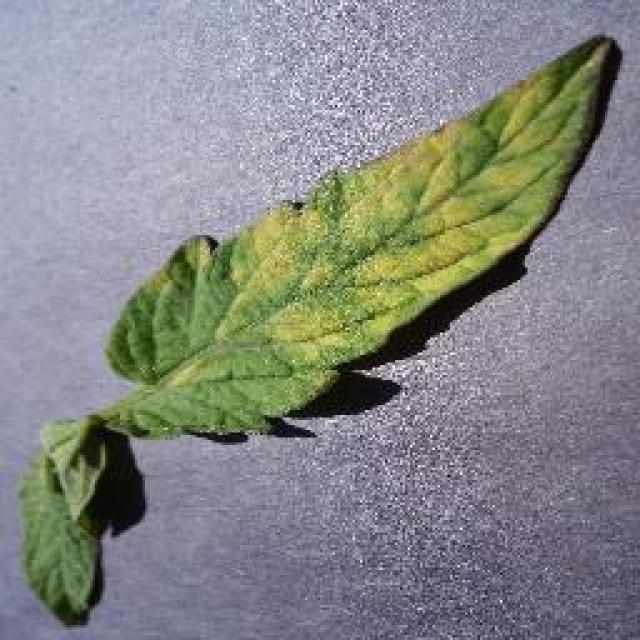Tomato mold leaf: (112, 31, 607, 448)
